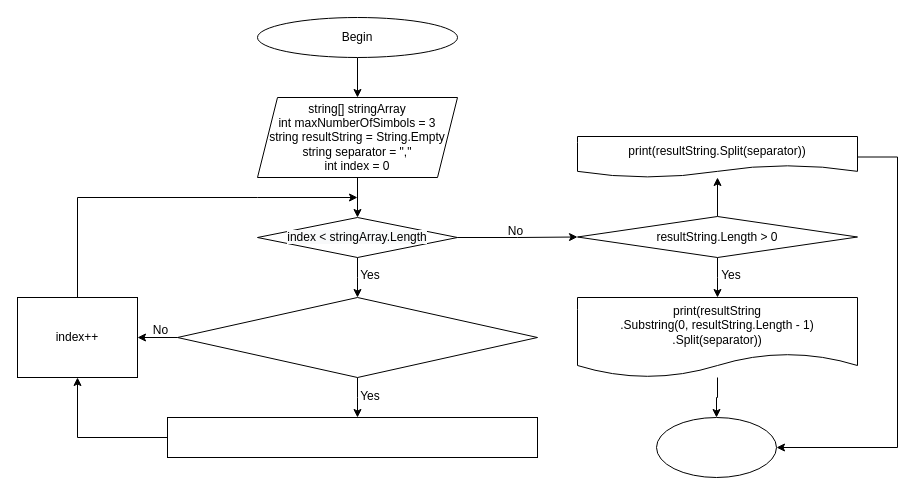
The diagram is 923 pixels wide and 495 high, and some of its shapes have lost their labels. The centre of each missing label's shape, as x and y in pixels:
End: point (716, 447)
resultString += stringArray[index] + separator: point (352, 437)
stringArray[index].Length <= maxNumberOfSimbols: point (357, 337)
